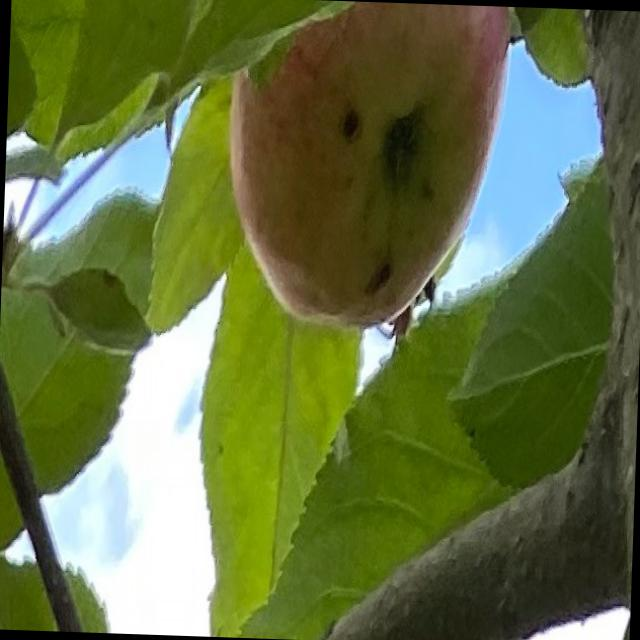Apples: (224, 0, 511, 331)
